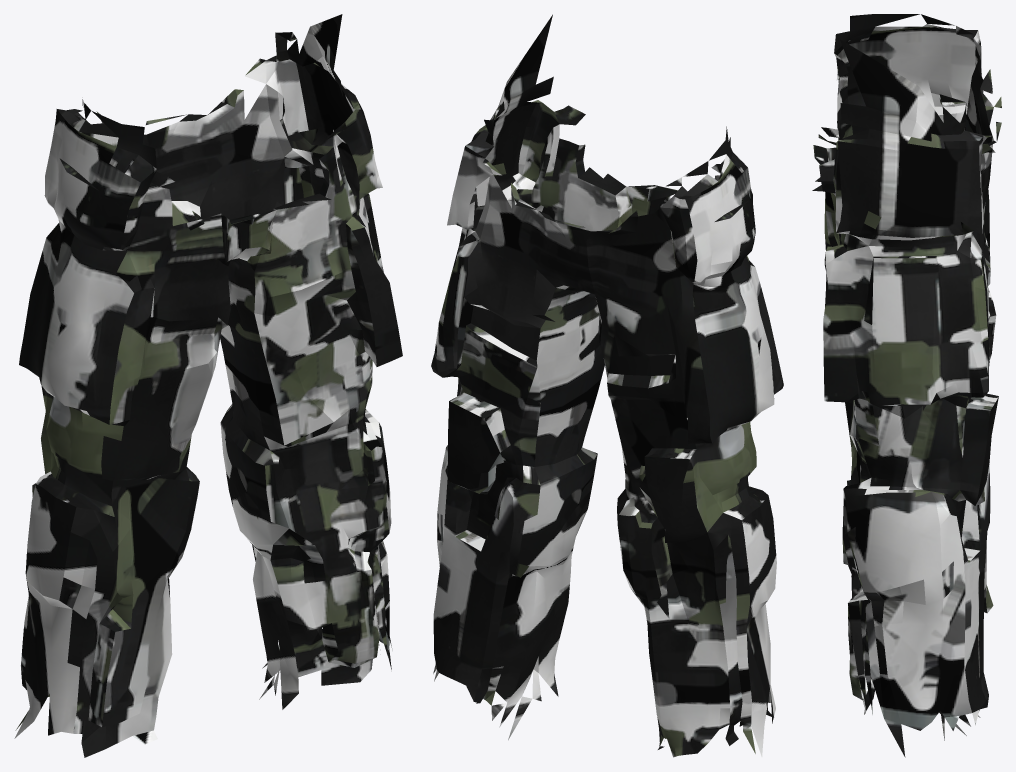
The model's file is soldier_1_legs.obj.
3 views of the same model, side by side, from view 1: azimuth 30°, elevation 25°; view 2: azimuth 150°, elevation 25°; view 3: azimuth 270°, elevation 25° (orthographic). The views are drawn at different scales.
Visible parts, largest first — view 1: soldier_1_legs; view 2: soldier_1_legs; view 3: soldier_1_legs.
Boxes of the visible parts, x1=… form: soldier_1_legs: x1=14, y1=14, x2=402, y2=757; soldier_1_legs: x1=431, y1=14, x2=783, y2=757; soldier_1_legs: x1=812, y1=14, x2=1001, y2=757.
Bounding box in the file's own units: 0.5885 × 1.14 × 0.2781.
